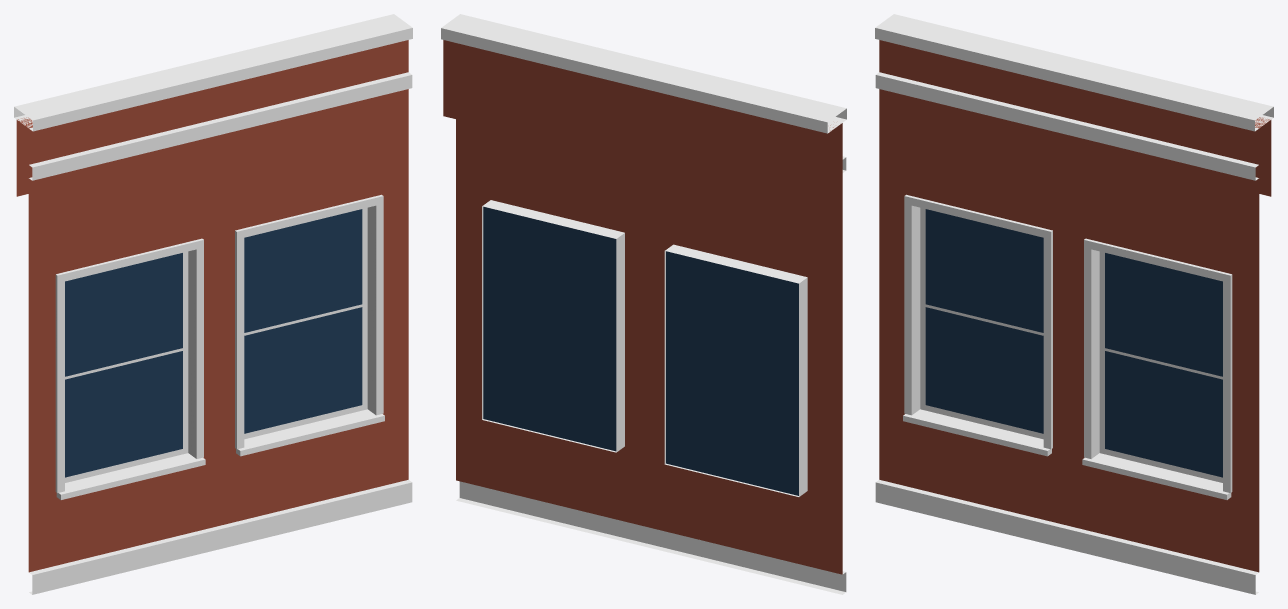
The model's file is top-w1.fbx.
3 views of the same model, side by side, from view 1: azimuth 30°, elevation 25°; view 2: azimuth 150°, elevation 25°; view 3: azimuth 330°, elevation 25° (orthographic).
Parts seen in each view (by area): view 1: a2009/600/top-w1; view 2: a2009/600/top-w1; view 3: a2009/600/top-w1.
Part boxes in pixels (x1,y1,x2,y2): a2009/600/top-w1: (14,14,412,594); a2009/600/top-w1: (441,14,846,594); a2009/600/top-w1: (875,14,1273,594).
Bounding box in the file's own units: 3.6 × 4.3 × 0.31.
